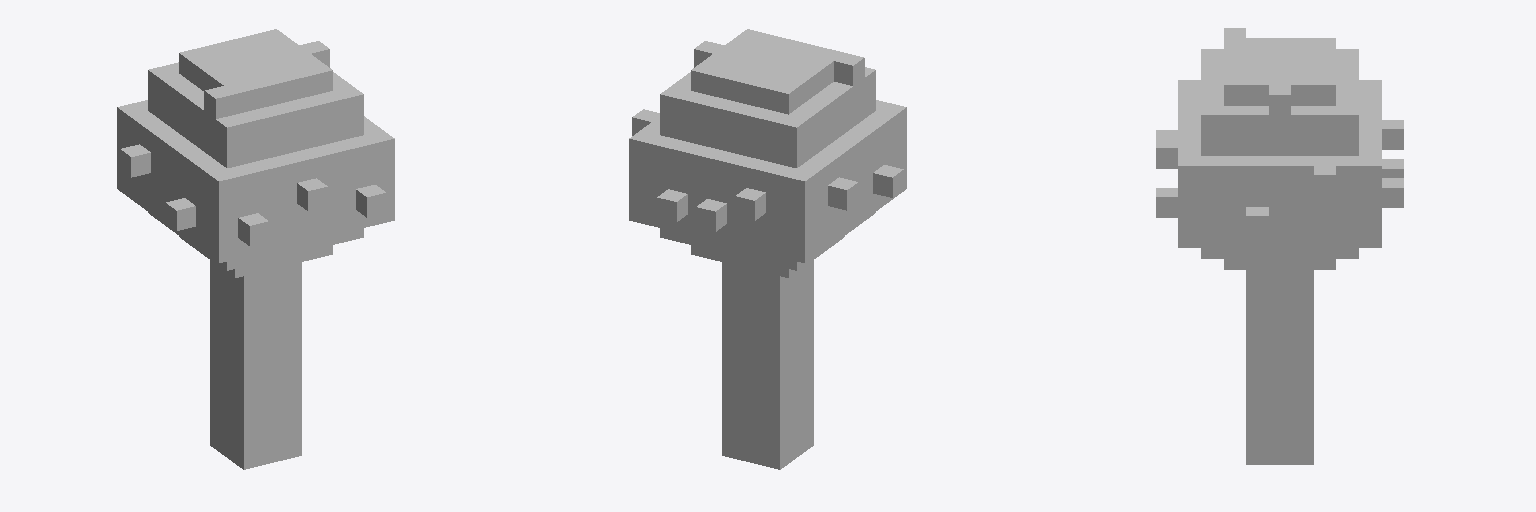
File: tree.obj
3 renders of one model, left to right at view 1: azimuth 30°, elevation 25°; view 2: azimuth 150°, elevation 25°; view 3: azimuth 270°, elevation 25°, orthographic.
Parts seen in each view (by area): view 1: object 1; view 2: object 1; view 3: object 1.
Part boxes in pixels (left/top/right/bottom): object 1: left=117, top=29, right=394, bottom=469; object 1: left=629, top=29, right=906, bottom=469; object 1: left=1156, top=28, right=1403, bottom=464.
Bounding box in the file's own units: 1.1 × 1.9 × 1.1.